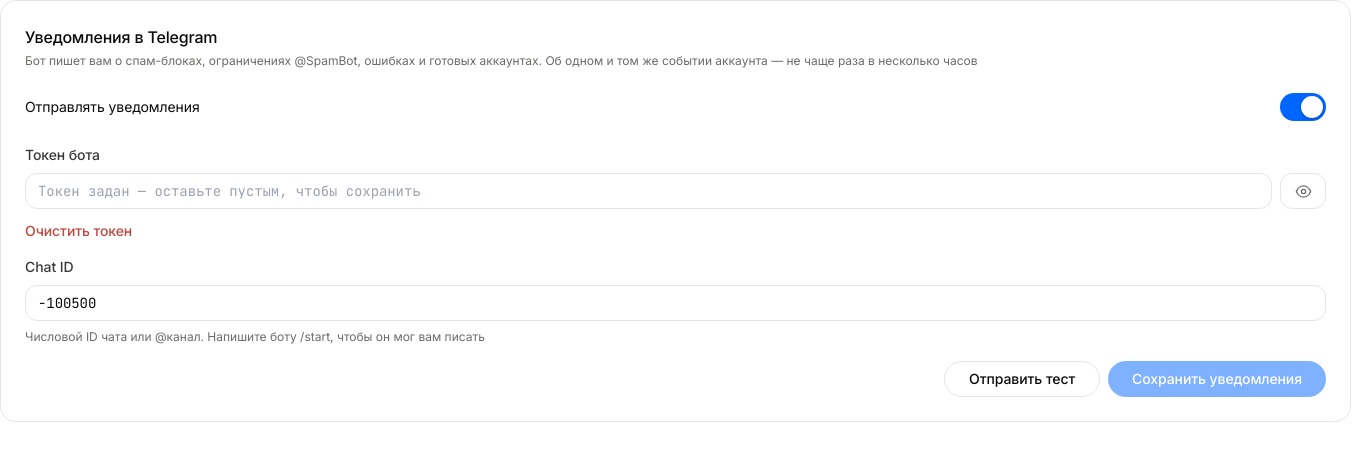
an invalid chat id blocks the save and says why
Replace the text in the field labelled "Chat ID" with "my chat". click: (676, 303)
box: [25,285,1326,321]
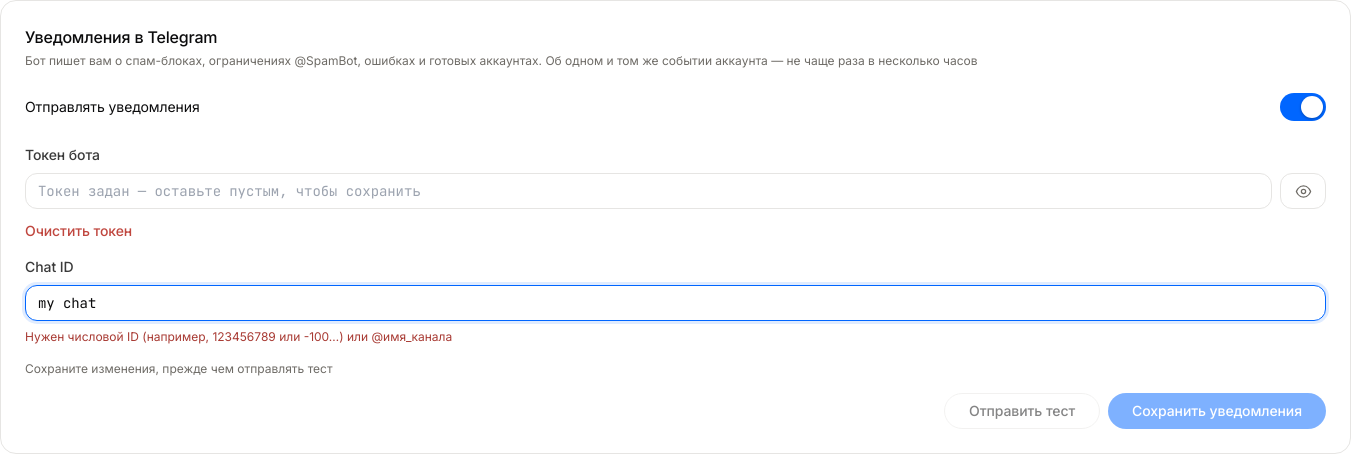
Now the text "Нужен числовой ID" is shown, box [25,329,452,344]
Now the button "Сохранить уведомления" is disabled, box [1108,393,1326,429]
